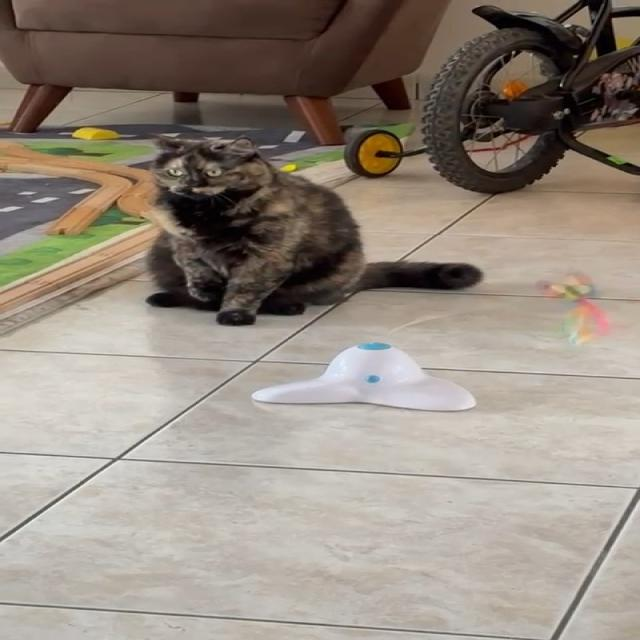authorized: (141, 133, 484, 326)
